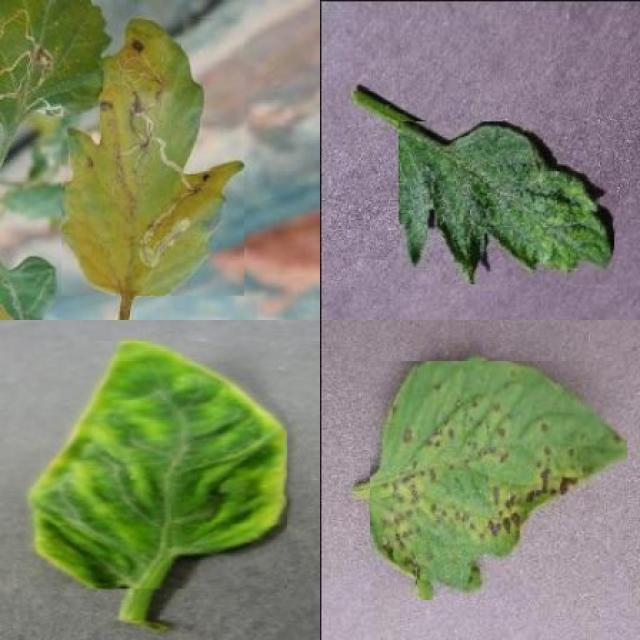Leaf Miner: (62, 18, 245, 296)
Mosaic Virus: (399, 122, 614, 285)
Septoria: (370, 360, 627, 600)
Yellow Leaf Curl Virus: (27, 340, 287, 589)
